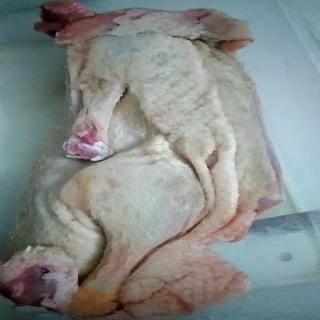Ayam: (1, 1, 287, 320)
